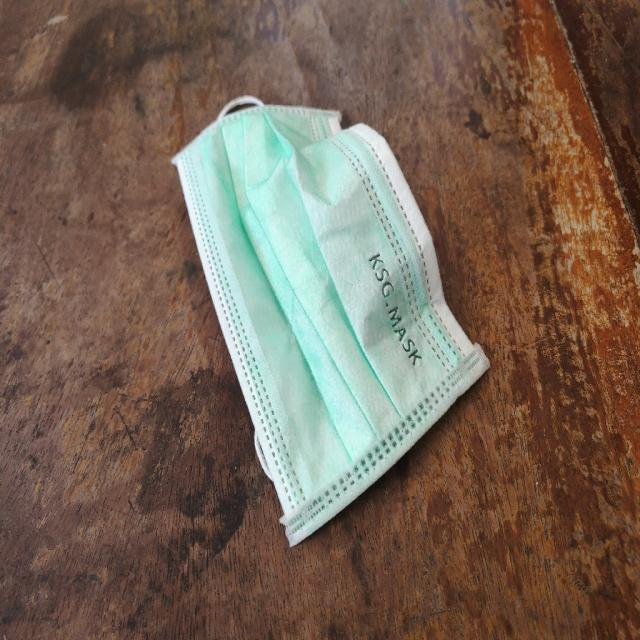non-organic waste: (166, 81, 494, 553)
